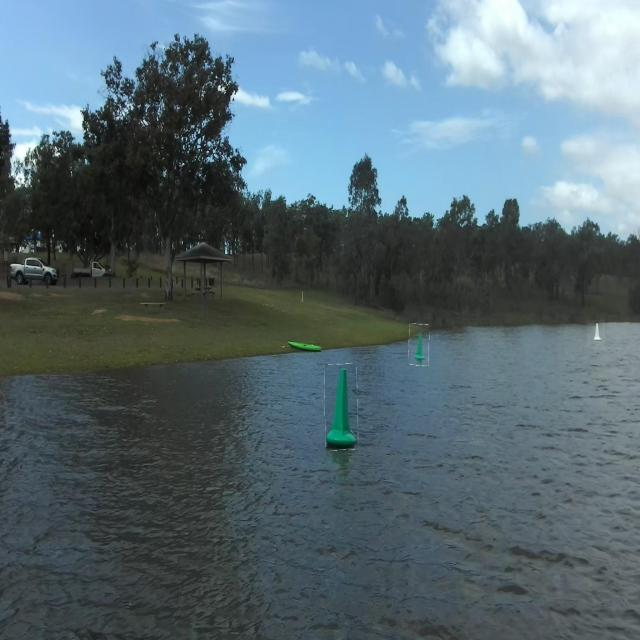Green_Buoy: (328, 363, 355, 448), (410, 325, 428, 364)
White_Buoy: (591, 318, 604, 346)
